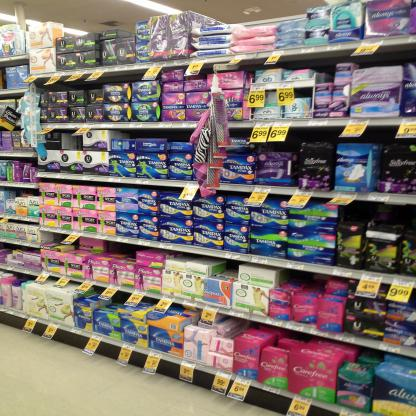Void: (338, 201, 412, 226), (115, 128, 192, 142), (281, 272, 327, 291), (290, 126, 332, 141), (108, 240, 136, 260), (318, 55, 334, 82), (356, 56, 408, 63), (287, 56, 316, 68), (215, 261, 234, 277)
